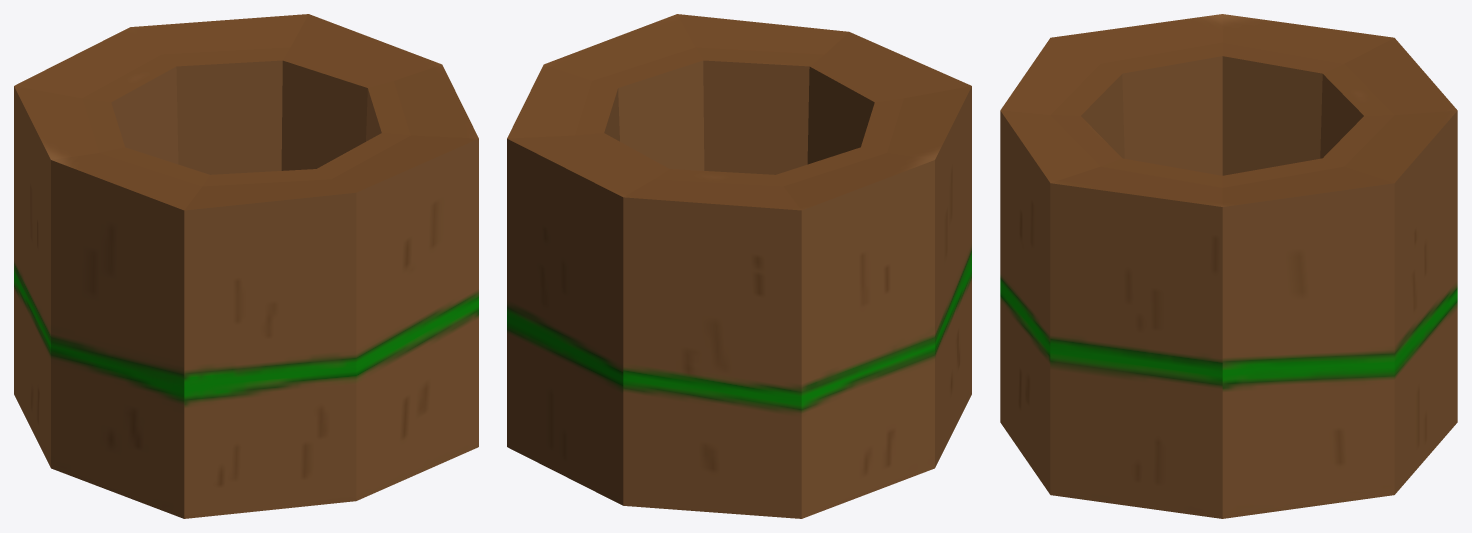
Rendered from pipe2.fbx.
The picture shows the model from 3 angles, left to right: view 1: azimuth 30°, elevation 25°; view 2: azimuth 150°, elevation 25°; view 3: azimuth 270°, elevation 25°; orthographic projection.
Visible parts, largest first — view 1: Torus; view 2: Torus; view 3: Torus.
Part boxes in pixels (bbox=[...]): Torus: bbox=[14, 14, 478, 518]; Torus: bbox=[507, 14, 971, 518]; Torus: bbox=[1000, 14, 1457, 518].
Bounding box in the file's own units: 265 × 200 × 266.
1 material, 1 textured.
